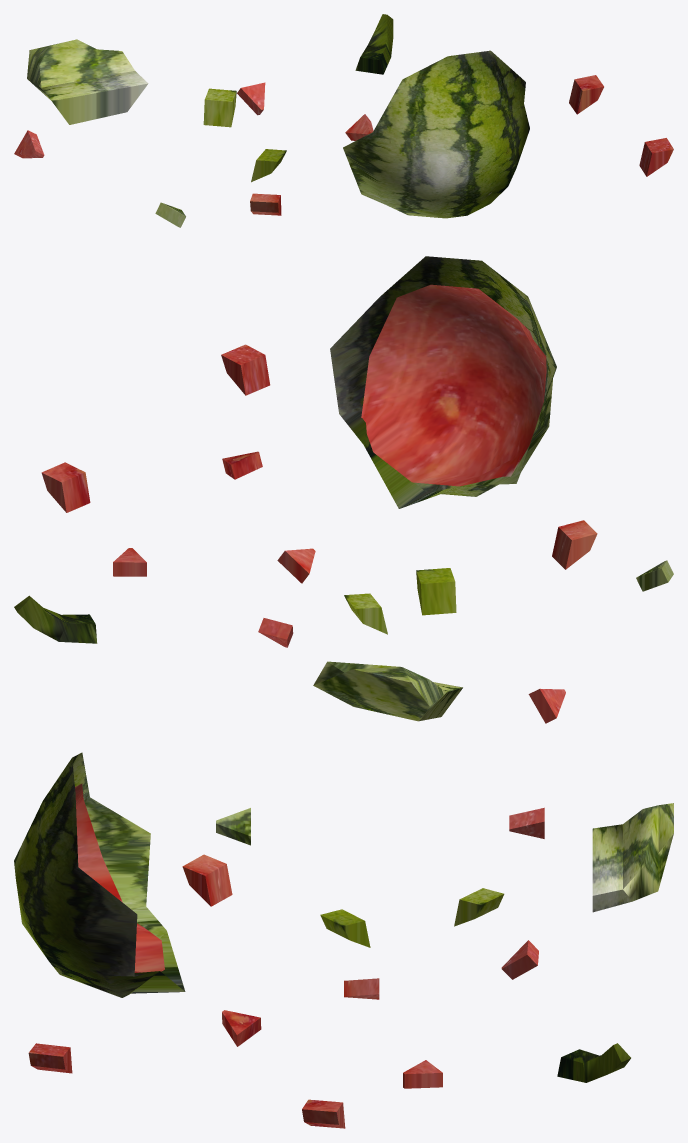
The model's file is watermelon_destroyed.fbx.
3 renders of one model, top to bottom at view 1: azimuth 30°, elevation 25°; view 2: azimuth 150°, elevation 25°; view 3: azimuth 270°, elevation 25°, orthographic. The views are drawn at different scales.
Visible parts, largest first — view 1: watermelon_shell_chunk, Watermelon_shell_frags, watermelon_frags; view 2: watermelon_innard_chunk, watermelon_shell_chunk, watermelon_frags, Watermelon_shell_frags; view 3: watermelon_shell_chunk, watermelon_frags, Watermelon_shell_frags, watermelon_innard_chunk.
Part boxes in pixels (box(x1,y1,x2,y2)): watermelon_shell_chunk: box(343, 50, 529, 218); Watermelon_shell_frags: box(27, 14, 393, 124); watermelon_frags: box(14, 75, 673, 227); watermelon_innard_chunk: box(361, 284, 546, 486); watermelon_shell_chunk: box(330, 256, 556, 508); watermelon_frags: box(41, 344, 673, 723); Watermelon_shell_frags: box(14, 595, 462, 721); watermelon_shell_chunk: box(14, 752, 185, 997); watermelon_frags: box(28, 807, 544, 1128); Watermelon_shell_frags: box(557, 803, 673, 1082); watermelon_innard_chunk: box(75, 783, 164, 972).
Size of the model in its own units: 40.87 by 14.84 by 36.93.
Materials: 1 (1 with a texture image).
